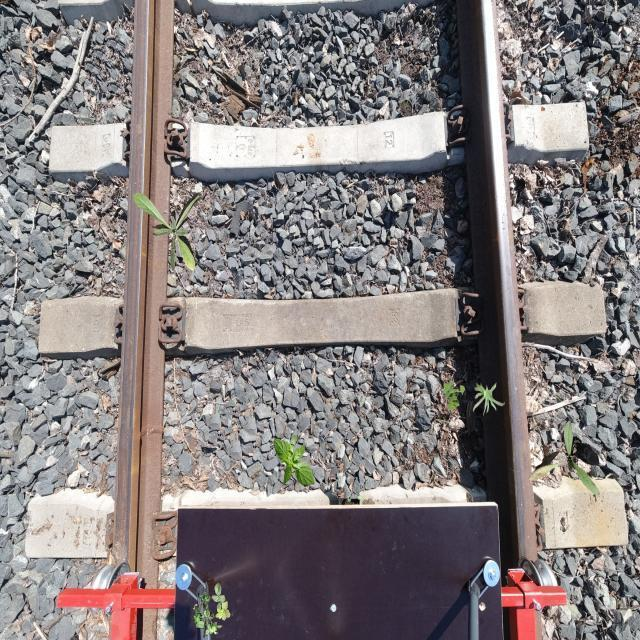Plant: (133, 191, 204, 272), (528, 421, 600, 496), (274, 434, 316, 488), (193, 583, 230, 638), (473, 382, 506, 416), (442, 380, 466, 410)
